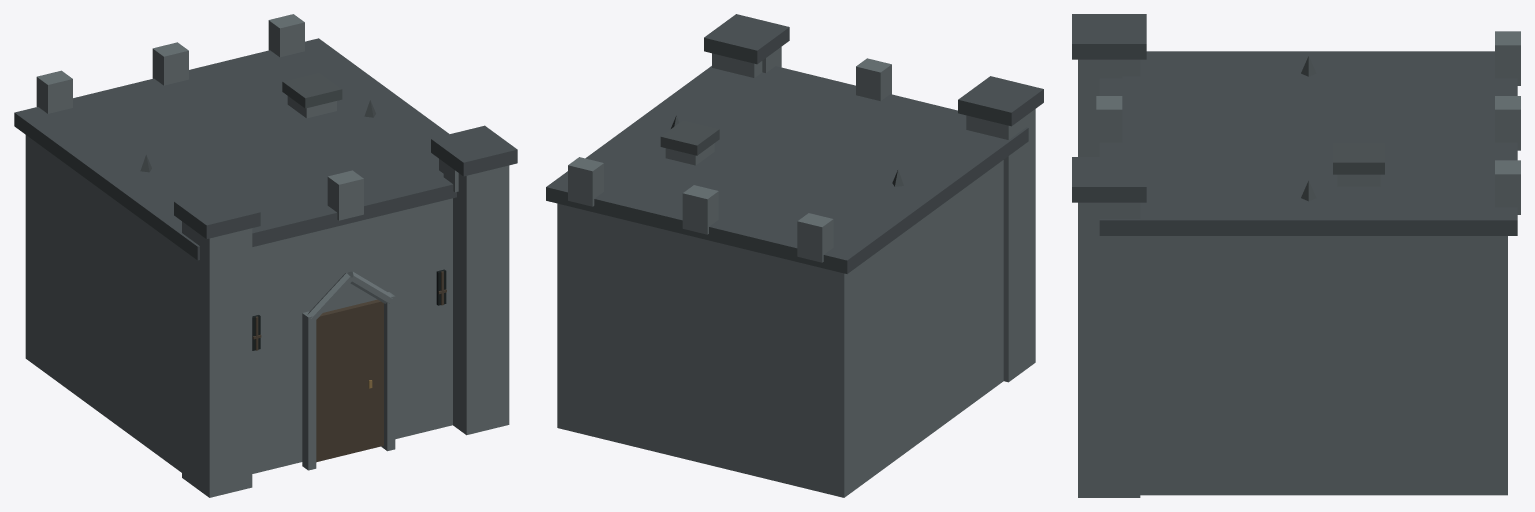
The model's file is iron.glb.
3 renders of one model, left to right at view 1: azimuth 30°, elevation 25°; view 2: azimuth 150°, elevation 25°; view 3: azimuth 270°, elevation 25°, orthographic. The views are drawn at different scales.
Parts seen in each view (by area): view 1: VIL_IRON_CHAPEL, VIL_IRON_WORKSHOP; view 2: VIL_IRON_CHAPEL, VIL_IRON_WORKSHOP; view 3: VIL_IRON_CHAPEL, VIL_IRON_WORKSHOP.
Part boxes in pixels (x1,y1,x2,y2): VIL_IRON_CHAPEL: (14,14,517,497); VIL_IRON_WORKSHOP: (282,72,342,118); VIL_IRON_CHAPEL: (546,14,1043,497); VIL_IRON_WORKSHOP: (660,120,719,165); VIL_IRON_CHAPEL: (1072,14,1520,497); VIL_IRON_WORKSHOP: (1333,142,1384,186).
Bounding box in the file's own units: 4.72 × 4.06 × 5.18.
